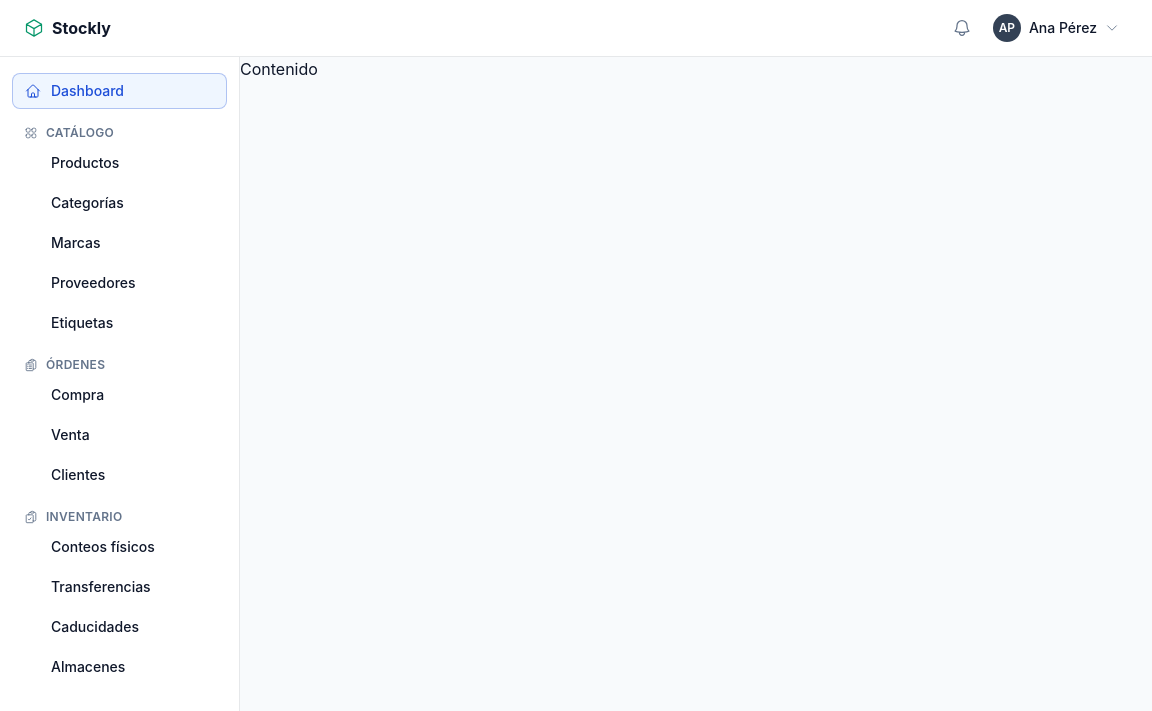
Test: Menú de usuario — disparador y cabecera › la cabecera dice de quién es la sesión, con el correo entero
Click the button with aria-label "menú de usuario" at (1056, 28), box [984,7,1128,49]
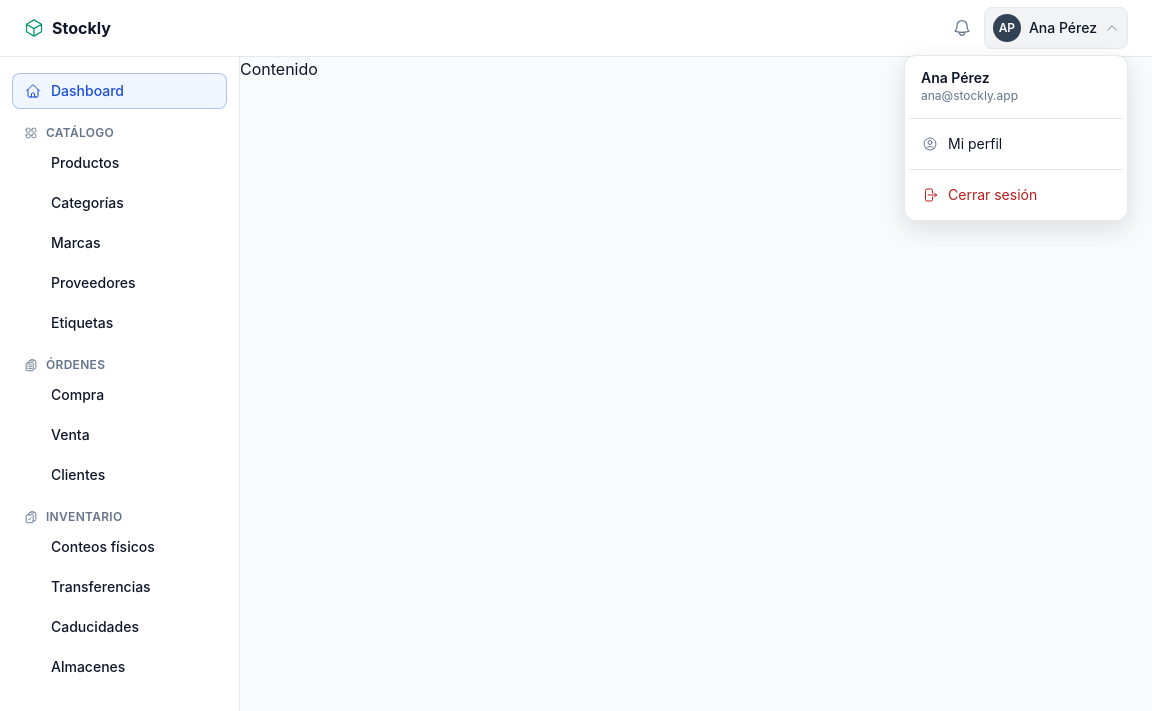
Check: the 2nd text "Ana Pérez" is shown, box [921,69,990,86]
Check: the text "ana@stockly.app" is shown, box [921,88,1018,103]
